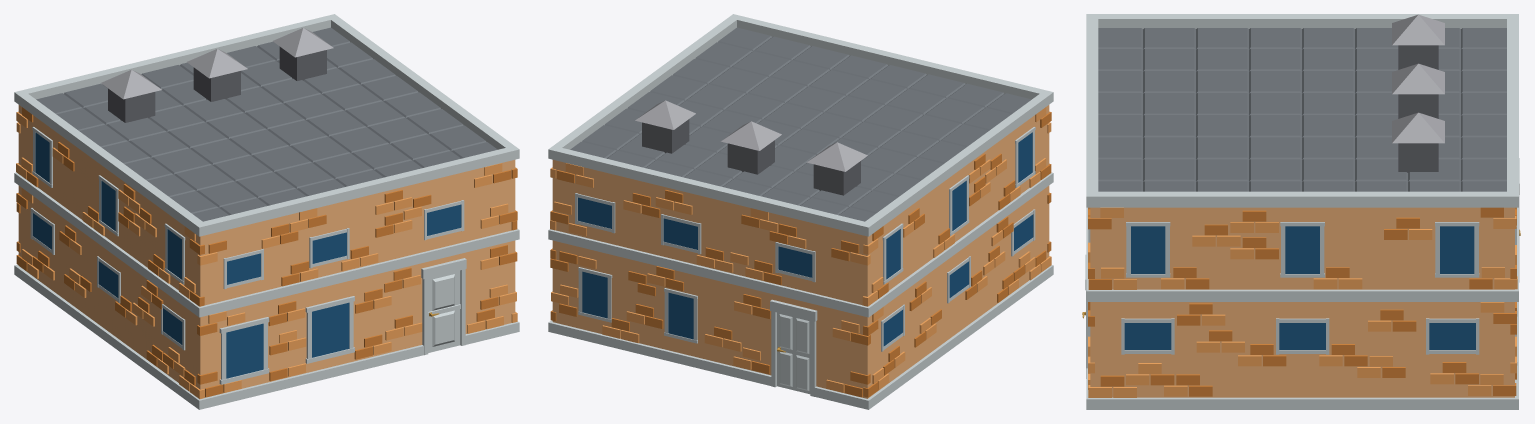
File: SM_House_15_A.FBX
3 views of the same model, side by side, from view 1: azimuth 30°, elevation 25°; view 2: azimuth 150°, elevation 25°; view 3: azimuth 270°, elevation 25° (orthographic). The views are drawn at different scales.
Visible parts, largest first — view 1: SM_House_15_A; view 2: SM_House_15_A; view 3: SM_House_15_A.
Part boxes in pixels (x1=…): SM_House_15_A: x1=14, y1=14, x2=519, y2=409; SM_House_15_A: x1=548, y1=14, x2=1053, y2=409; SM_House_15_A: x1=1082, y1=14, x2=1520, y2=409.
Size of what is drawn, in the model's own units: 952 by 964 by 619.
